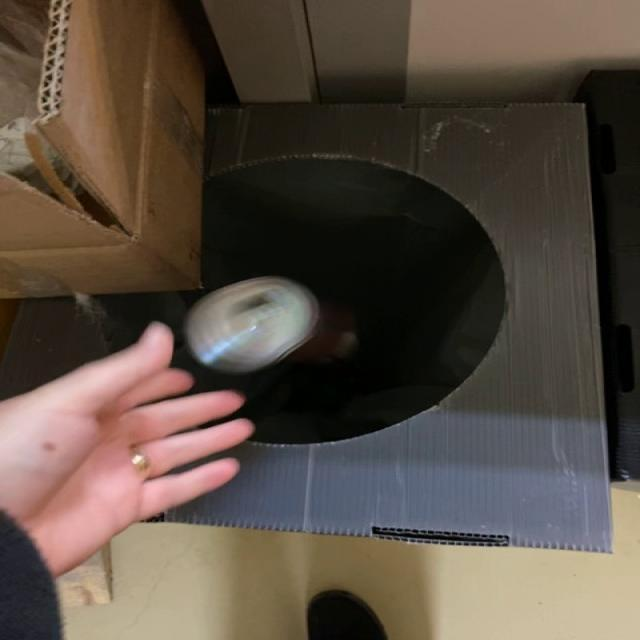Bin: (168, 104, 612, 552), (3, 292, 204, 392)
Metal: (184, 277, 319, 374)
